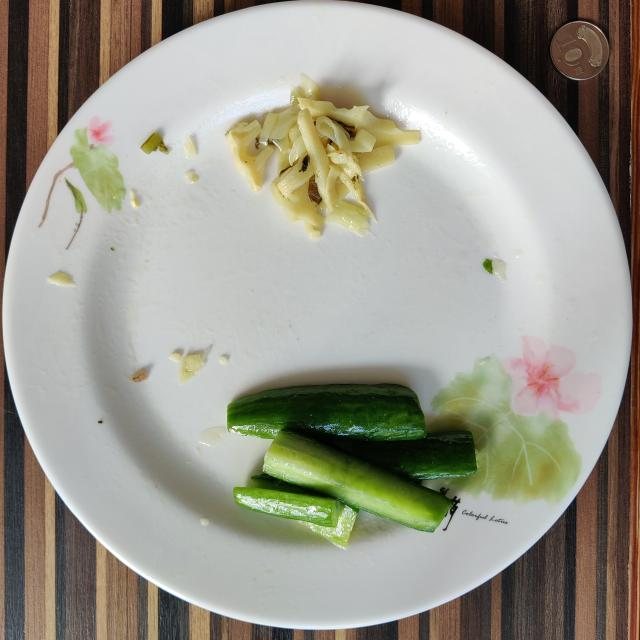coin: (550, 21, 609, 80)
cucumber: (228, 384, 478, 549)
